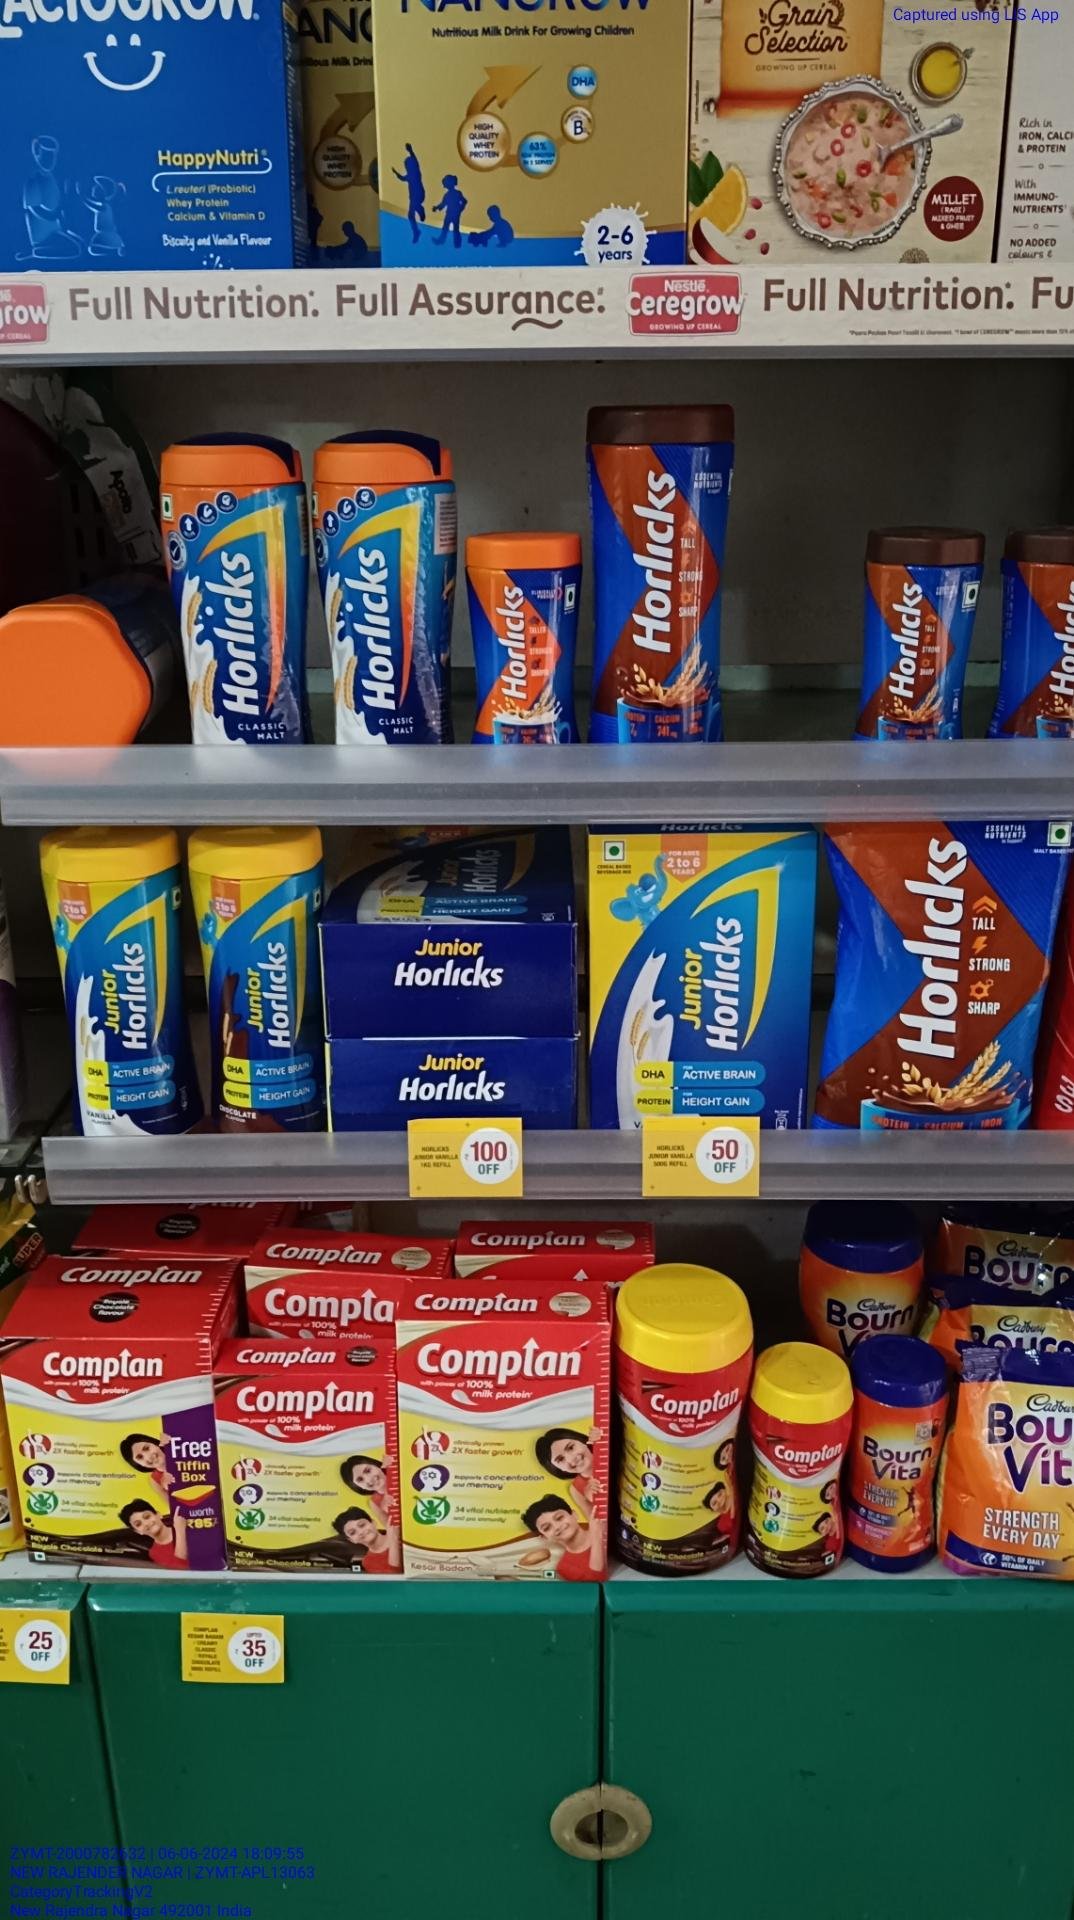BOURN_VITA_200_G_JAR: (860, 1381, 938, 1573)
BOURN_VITA_500_G_POUCH: (954, 1353, 1074, 1582)
COMPLAN_CHOCOLATE_1_KG_PACK: (0, 1337, 207, 1568)
COMPLAN_CHOCOLATE_200_GMS_JAR: (769, 1387, 847, 1580)
COMPLAN_CHOCOLATE_500_GMS_JAR: (628, 1329, 743, 1578)
COMPLAN_CHOCOLATE_500_GMS_PACK: (218, 1370, 392, 1573)
COMPLAN_KESAR_BADAM_500_GMS_PACK: (398, 1317, 604, 1580)
HORLICKS_JUNIOR_VANILLA_500_GM_JAR: (46, 835, 173, 1146)
HORLICK_CHOCOLATE_200_G_JAR: (860, 525, 970, 748)
HORLICK_CHOCOLATE_500_G_JAR: (590, 409, 724, 740)
HORLICK_CHOCOLATE_750_G_POUCH: (827, 808, 1074, 1149)
HORLICK_CLASSIC_MALT_200_G_JAR: (464, 539, 586, 766)
HORLICK_CLASSIC_MALT_500_G_JAR: (154, 434, 297, 748), (307, 447, 437, 744)
